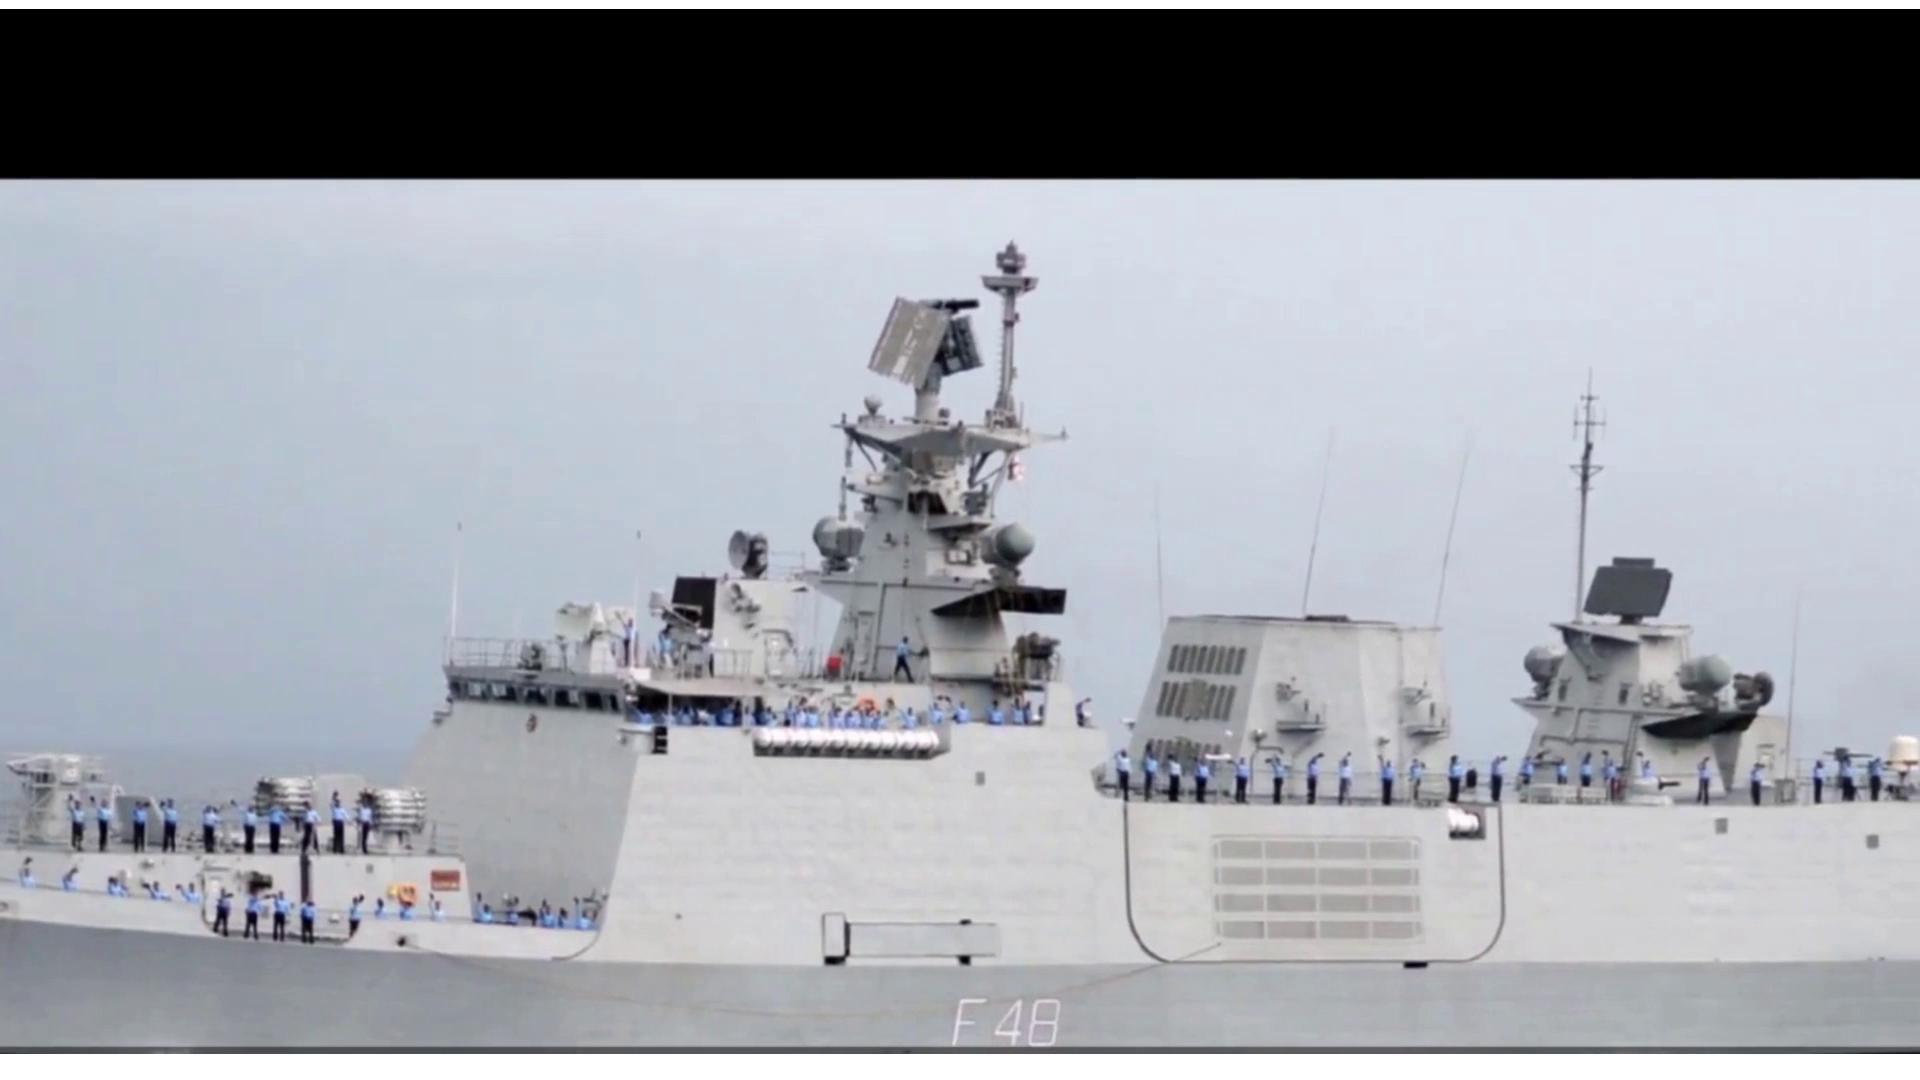OCR: (936, 984, 1094, 1046)
